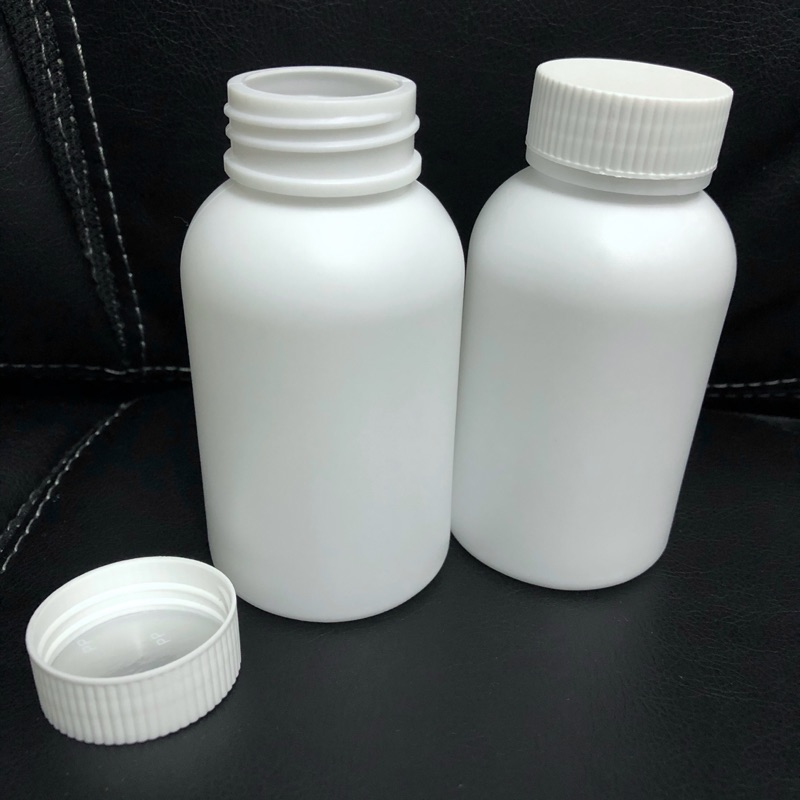medicinejar: (23, 57, 468, 745), (444, 32, 739, 640)
